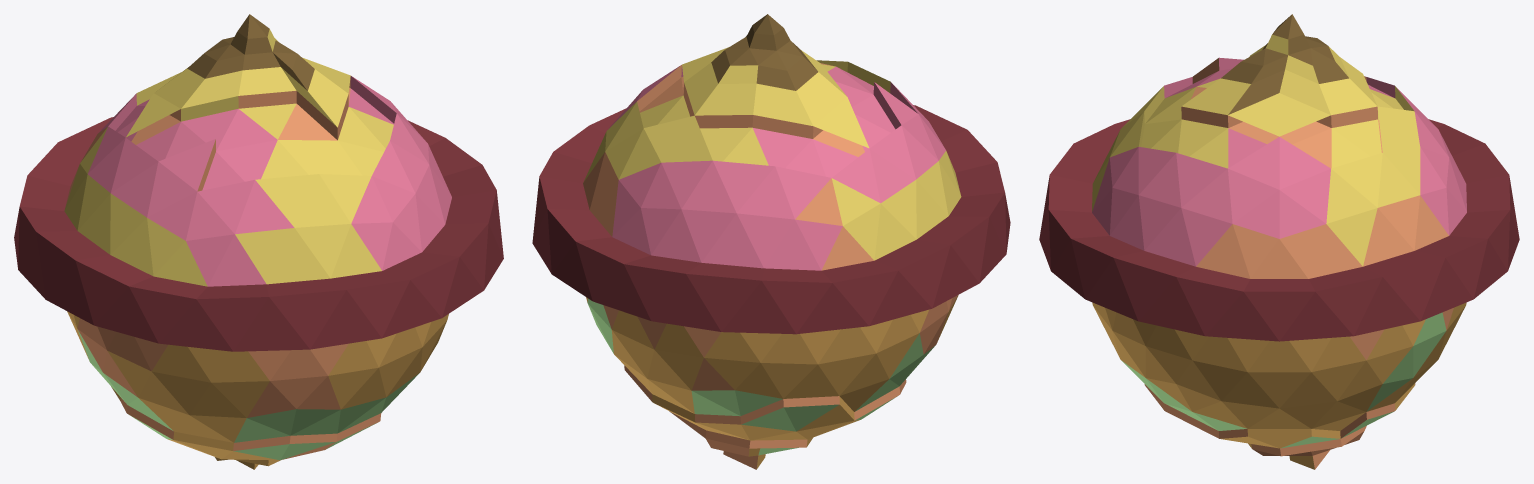
File: Planeta_9.fbx
The picture shows the model from 3 angles, left to right: view 1: azimuth 30°, elevation 25°; view 2: azimuth 150°, elevation 25°; view 3: azimuth 270°, elevation 25°; orthographic projection. The views are drawn at different scales.
Parts seen in each view (by area): view 1: Icosphere.008; view 2: Icosphere.008; view 3: Icosphere.008.
Boxes of the visible parts, <box> form: Icosphere.008: <box>14,14,503,469</box>; Icosphere.008: <box>532,14,1010,469</box>; Icosphere.008: <box>1039,14,1519,469</box>.
Bounding box in the file's own units: 2446 × 2499 × 2446.
